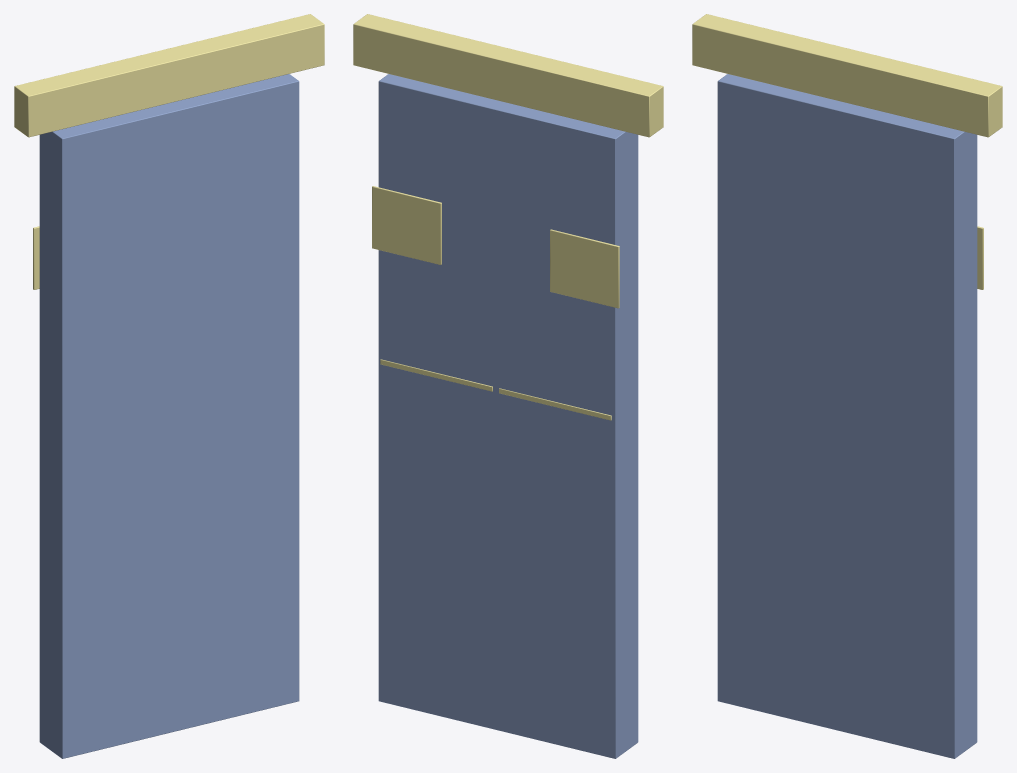
Rendered from SM_COS_PANTS_JEANS.fbx.
3 views of the same model, side by side, from view 1: azimuth 30°, elevation 25°; view 2: azimuth 150°, elevation 25°; view 3: azimuth 330°, elevation 25° (orthographic).
Parts seen in each view (by area): view 1: SM_COS_PANTS_JEANS; view 2: SM_COS_PANTS_JEANS; view 3: SM_COS_PANTS_JEANS.
Part boxes in pixels (left/top/right/bottom): SM_COS_PANTS_JEANS: left=14, top=14, right=324, bottom=758; SM_COS_PANTS_JEANS: left=353, top=14, right=663, bottom=758; SM_COS_PANTS_JEANS: left=692, top=14, right=1002, bottom=758.
Size of what is drawn, in the model's own units: 0.3 by 0.645 by 0.043.
